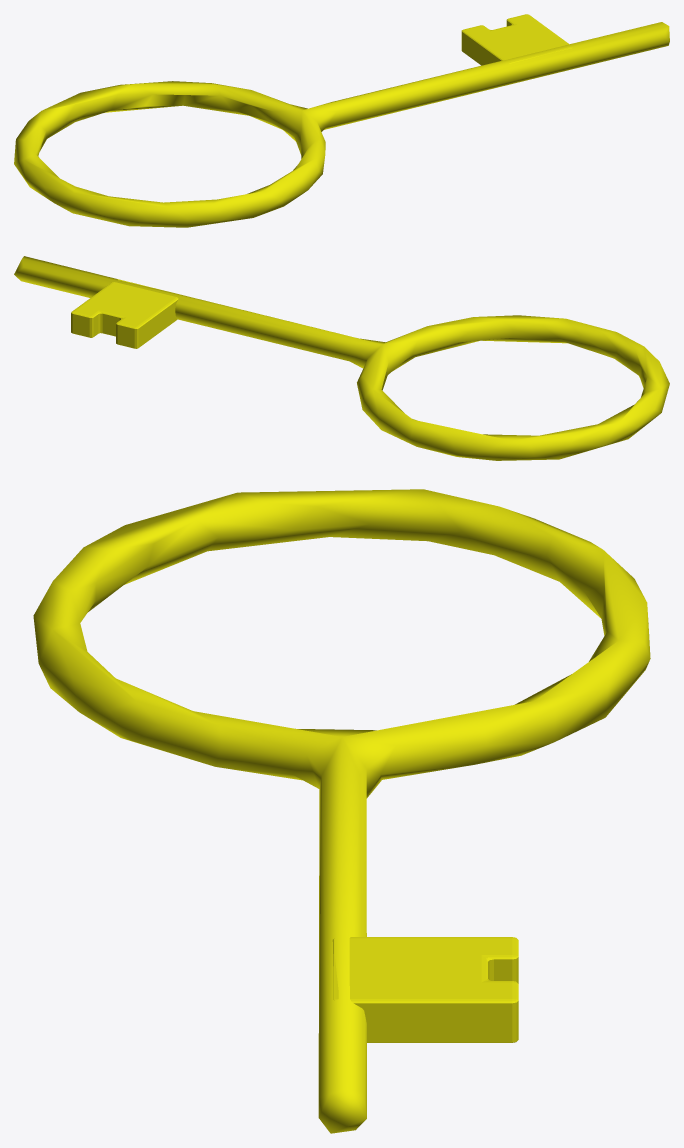
The model's file is KeyModel.fbx.
The picture shows the model from 3 angles, top to bottom: view 1: azimuth 30°, elevation 25°; view 2: azimuth 150°, elevation 25°; view 3: azimuth 270°, elevation 25°; orthographic projection. The views are drawn at different scales.
Parts seen in each view (by area): view 1: Circle, Cube; view 2: Circle, Cube; view 3: Circle, Cube.
Part boxes in pixels (bbox=[...]): Circle: bbox=[14, 22, 669, 227]; Cube: bbox=[461, 14, 572, 65]; Circle: bbox=[14, 256, 669, 460]; Cube: bbox=[71, 279, 178, 348]; Circle: bbox=[33, 489, 650, 1133]; Cube: bbox=[332, 937, 518, 1042].
Size of the model in its own units: 253 by 8.84 by 108.
